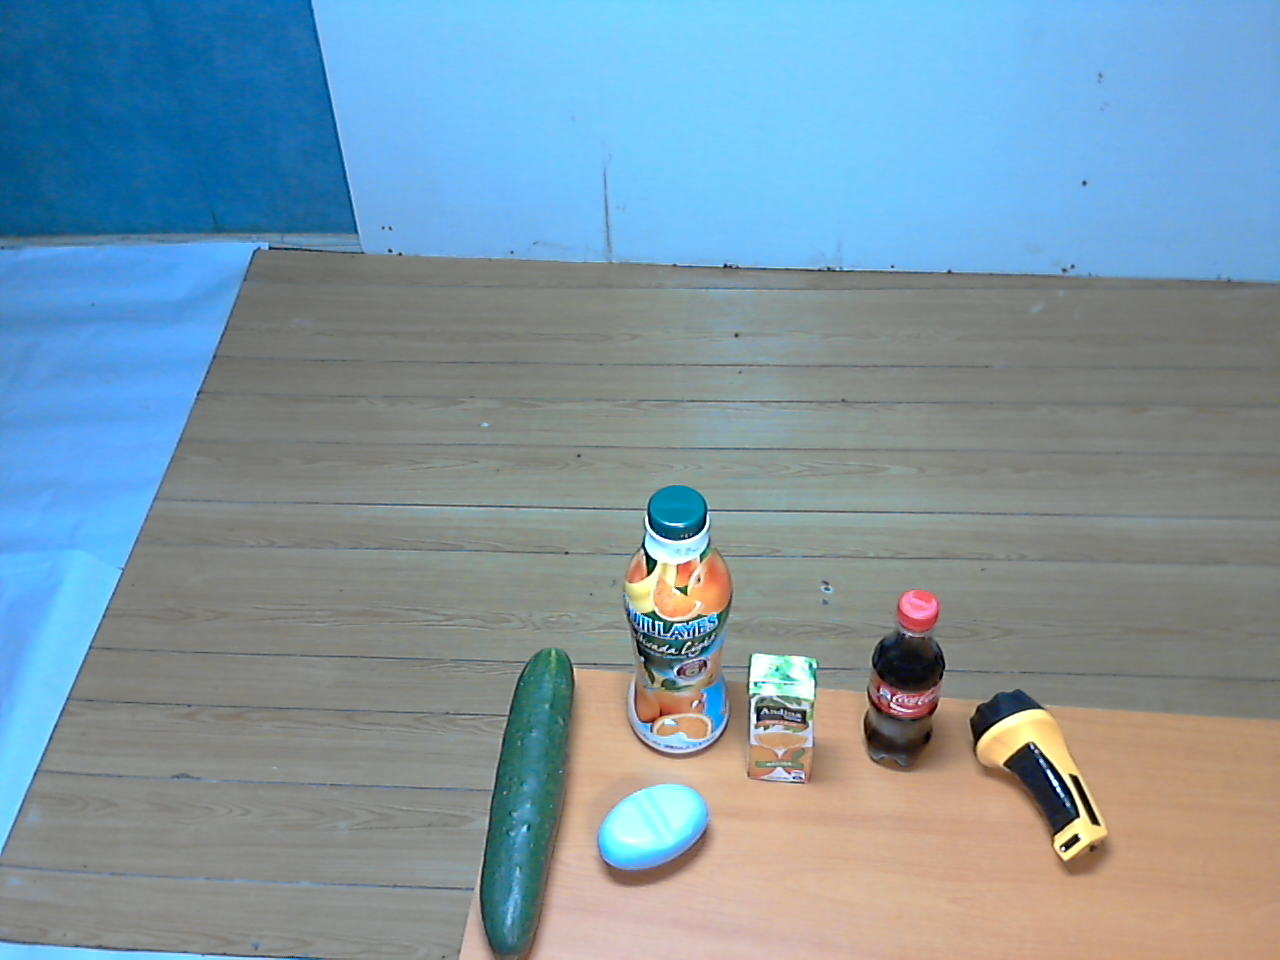coca: (854, 584, 948, 781)
jabon: (589, 782, 723, 892)
jugoind: (736, 639, 829, 793)
linterna: (959, 679, 1126, 879)
pepino: (470, 641, 593, 960)
yogurt: (605, 482, 749, 761)
